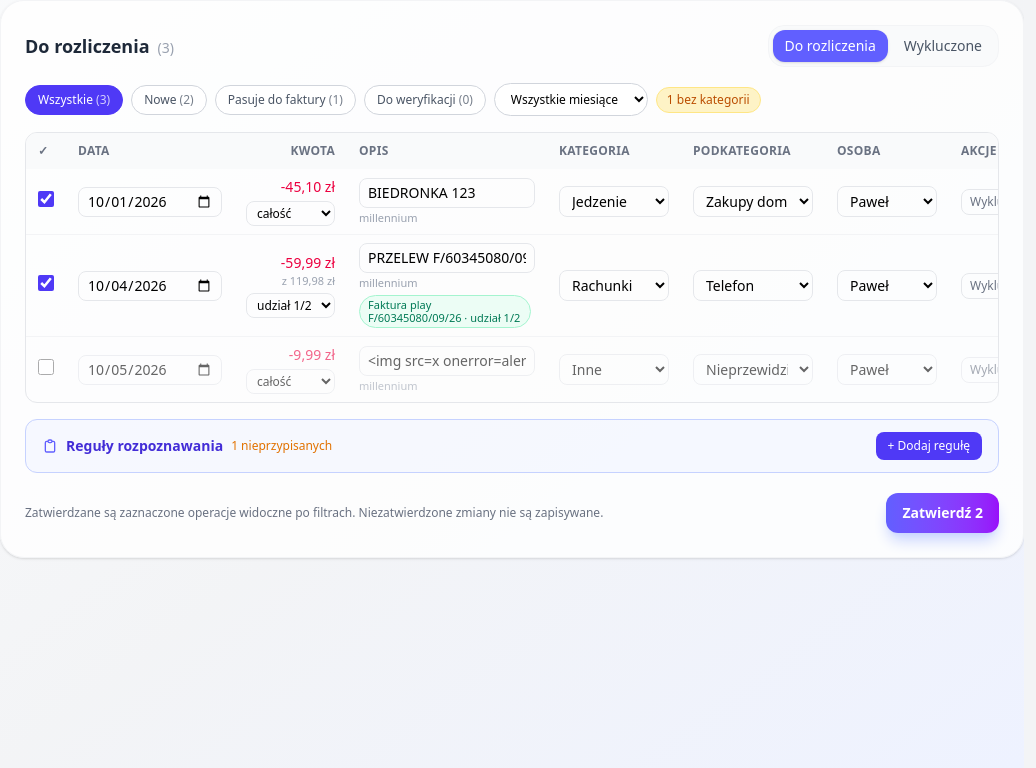
Test: Kolejka — zatwierdzanie › wysyła poprawny payload (udział, kwota_pelna, zobowiazanie_id) i odświeża dane
Expected: the tab "Wszystkie (3)" is shown, [25,84,123,114]
# osoba z dowodu, zmiana na inną z listy
Step 1. Select "Teresa" in the dropdown named "Osoba" in the row of "-45,10" → (887, 202), box [837,186,937,217]
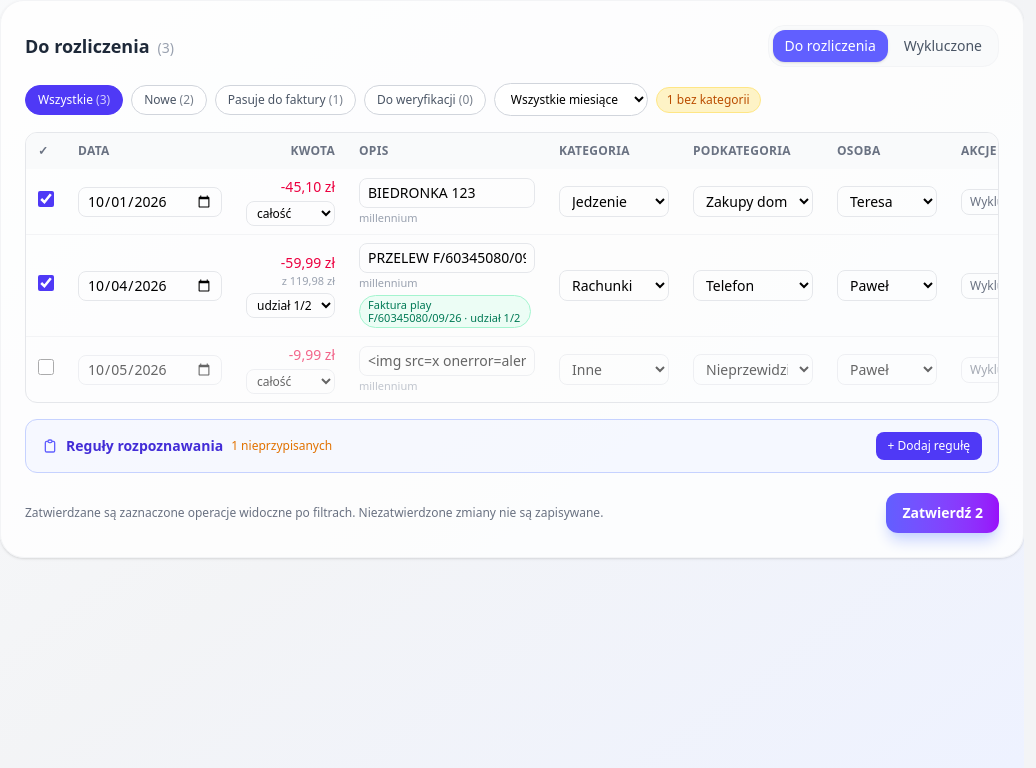
Step 2. Click the button "Zatwierdź 2" → (943, 513), box [886,493,999,533]
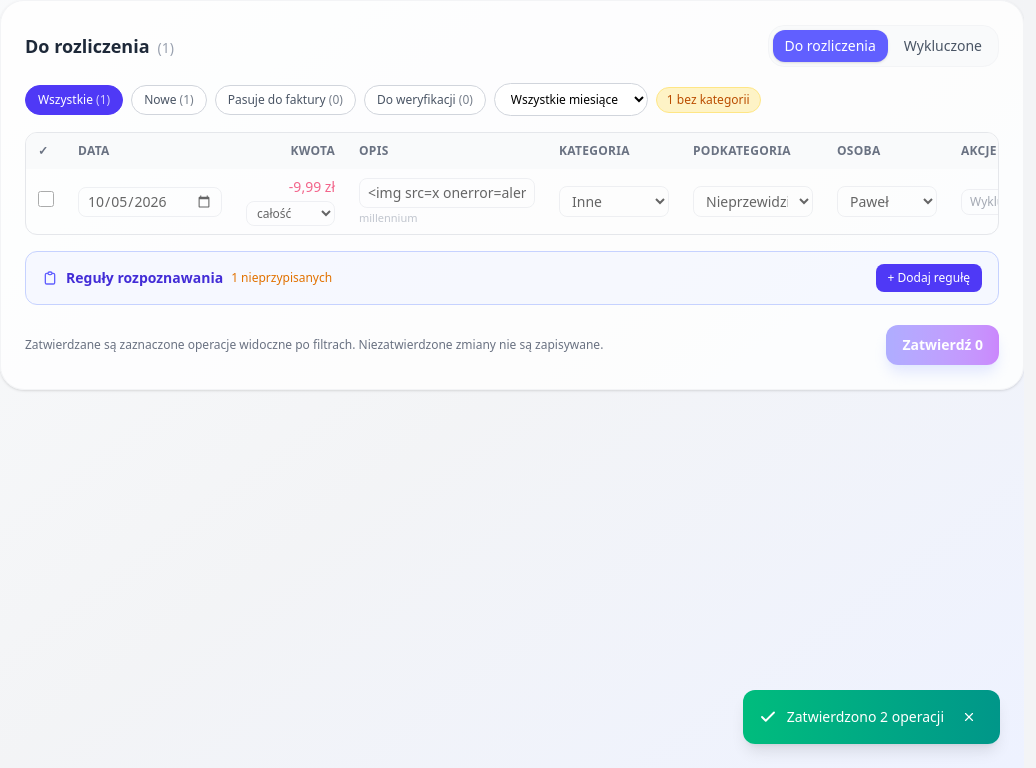
Expected: the field showing "BIEDRONKA 123" is not shown
Expected: the text "Zatwierdzono 2 operacji" is shown, [787,707,944,727]
